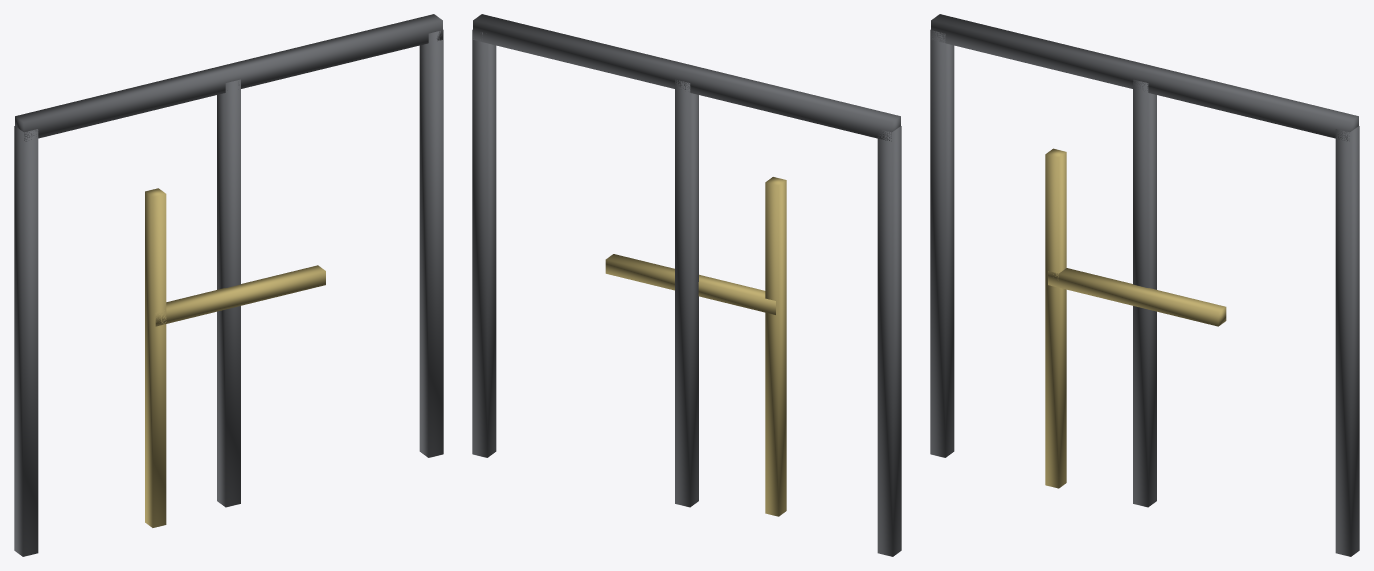
Rendered from steel_gate_l120_h120.glb.
3 views of the same model, side by side, from view 1: azimuth 30°, elevation 25°; view 2: azimuth 150°, elevation 25°; view 3: azimuth 330°, elevation 25° (orthographic).
Parts seen in each view (by area): view 1: world; view 2: world; view 3: world.
Part boxes in pixels (x1,y1,x2,y2): world: [14, 14, 443, 556]; world: [472, 14, 901, 556]; world: [930, 14, 1359, 556].
Bounding box in the file's own units: 1.25 × 1.23 × 0.0825.
